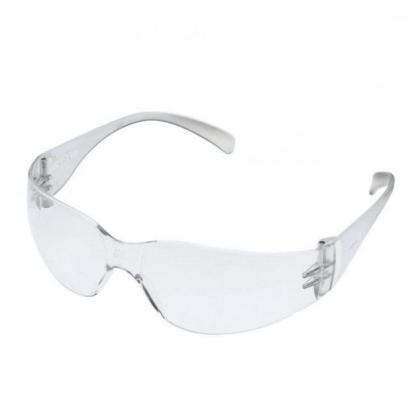oculos: (23, 105, 402, 352)
